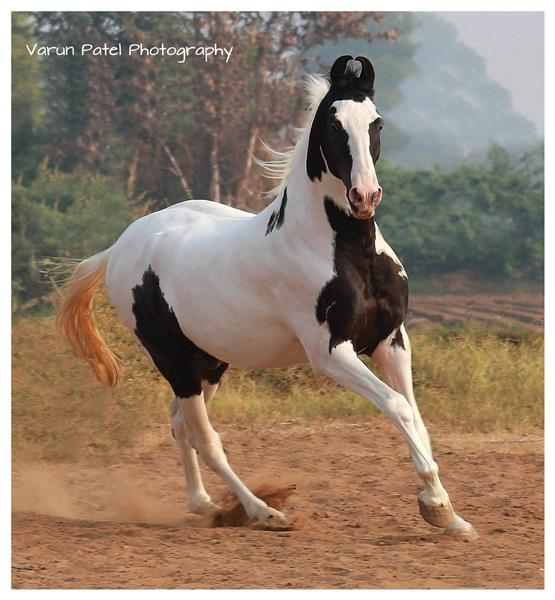horse: (68, 50, 482, 544)
